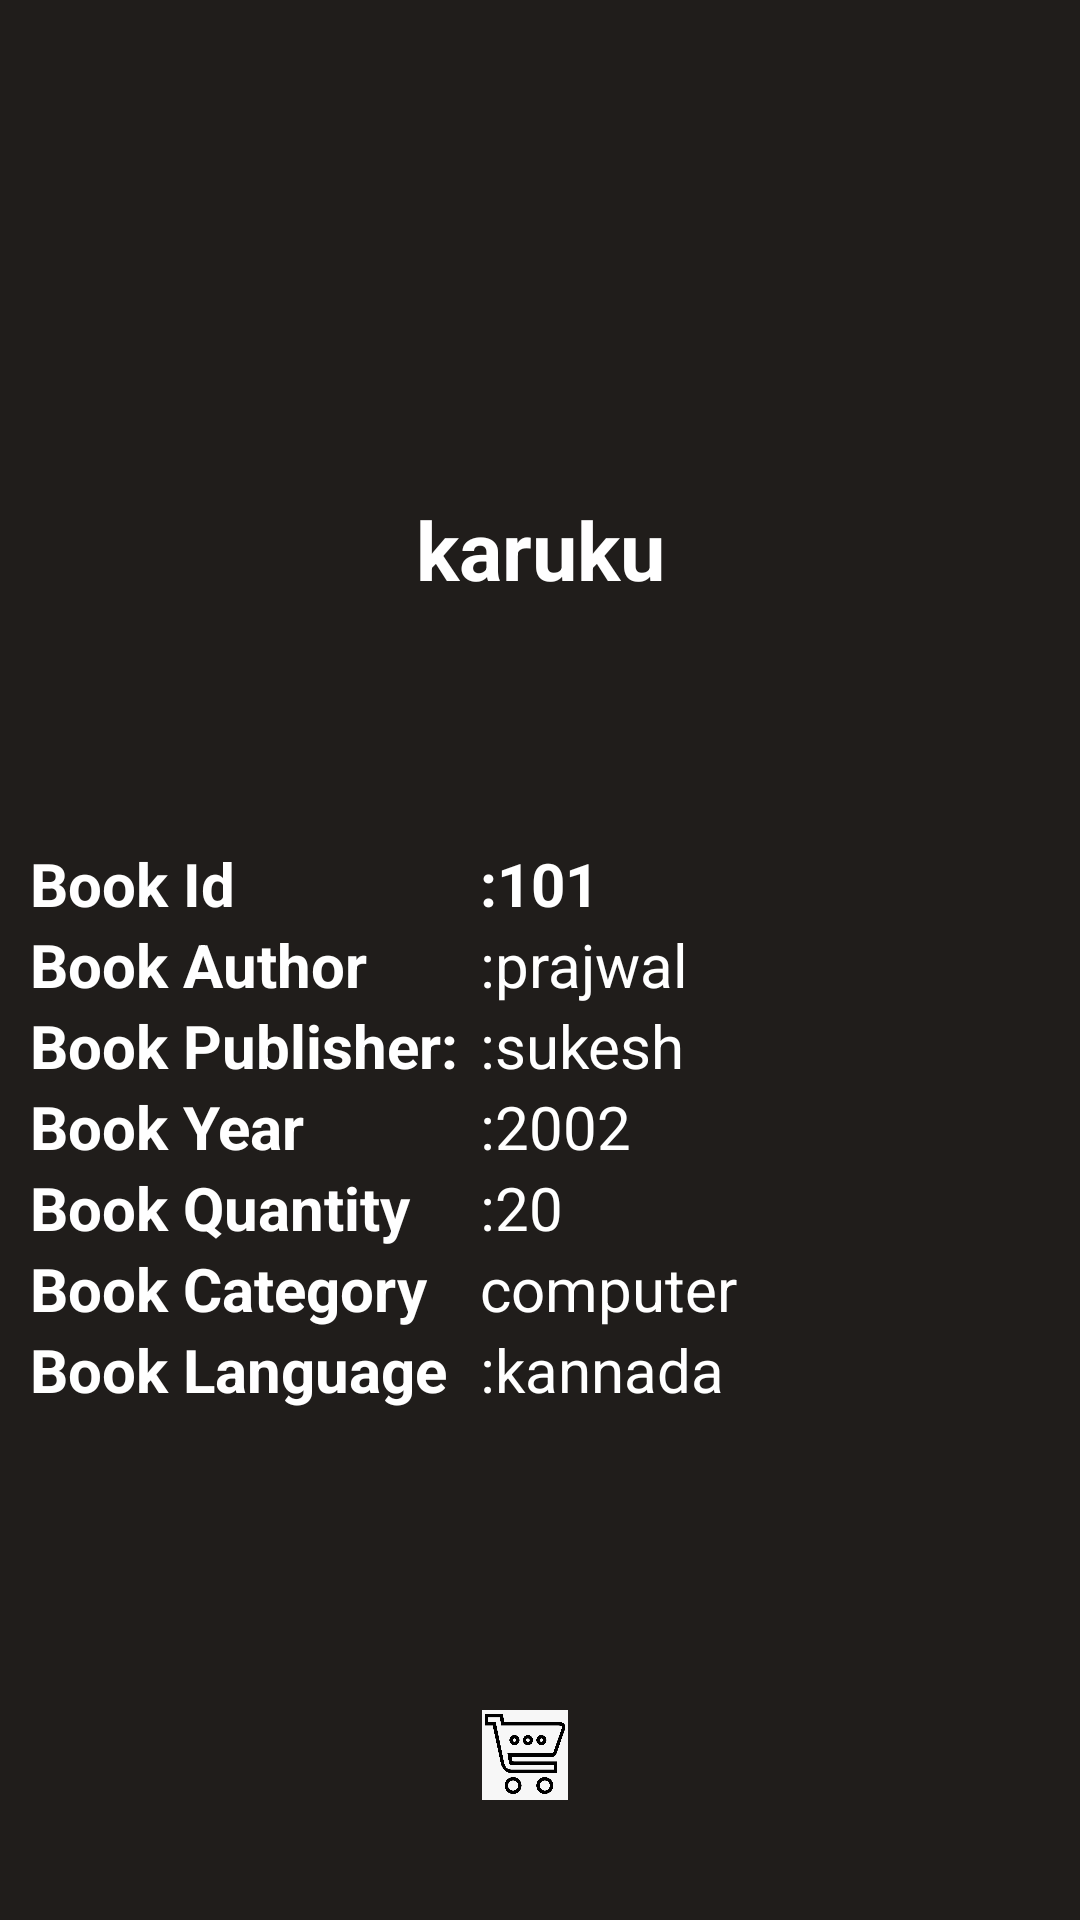

Icons on this 1080x1920 Android screen, each with the point to tap as point (x, y):
order: point (525, 1755)
